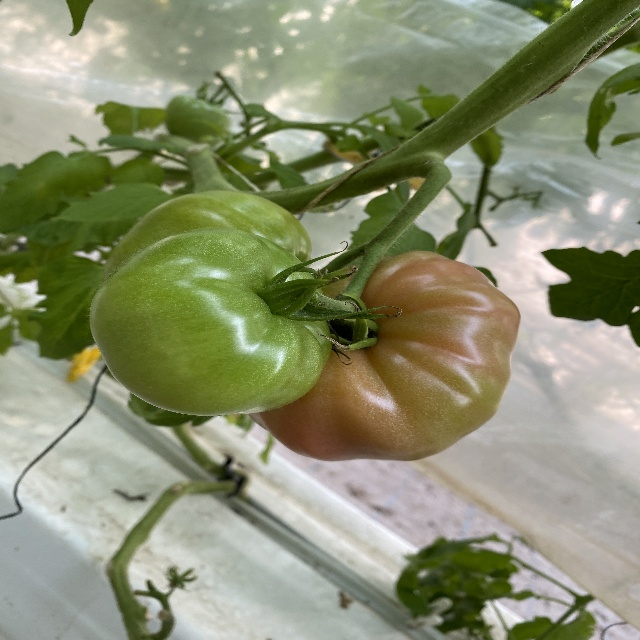b_green: (89, 227, 332, 417), (102, 190, 312, 284)
b_half_ripened: (248, 250, 521, 462)
